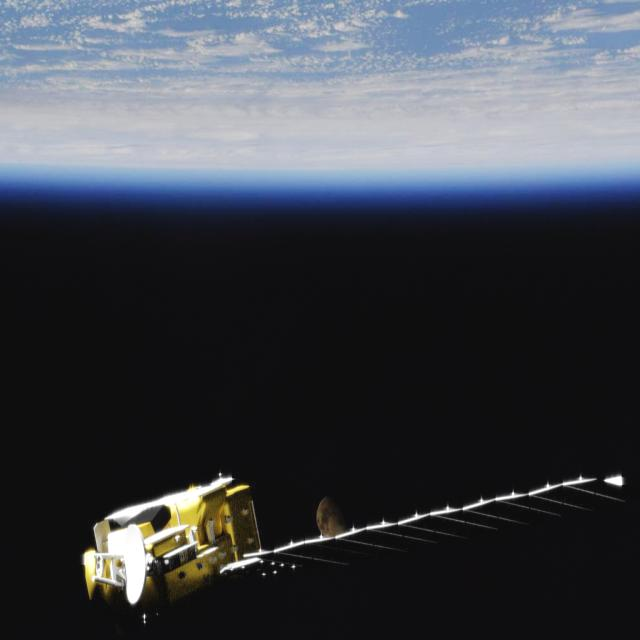satellite: (57, 470, 639, 640)
